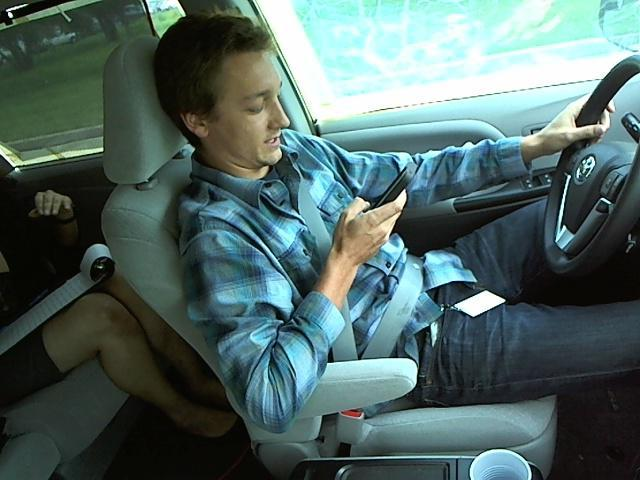PhoneUse: (357, 158, 422, 234)
